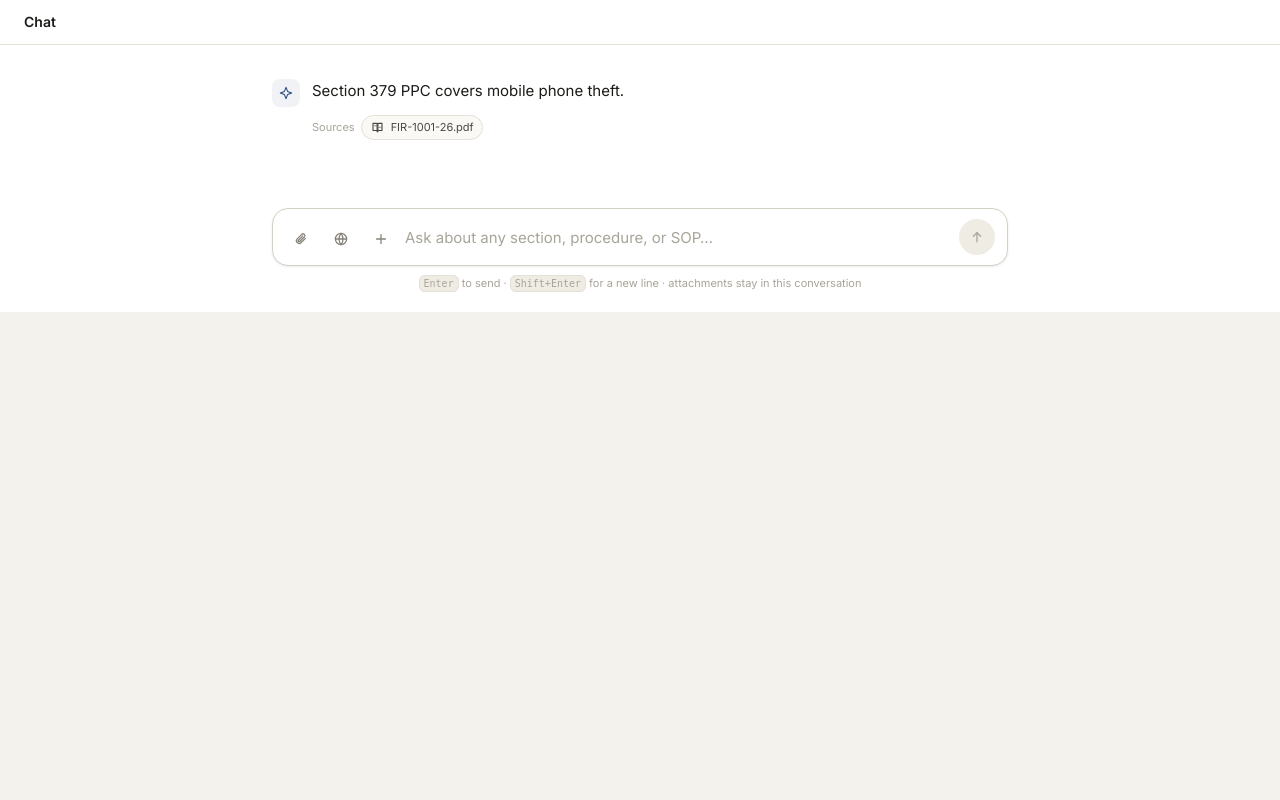
it: Chat layout — citation overlay, not a reserved column › closing the overlay (Escape) unmounts it and returns focus to the chip
Click the button titled "FIR-1001-26.pdf" at (422, 127), box [361, 115, 483, 140]
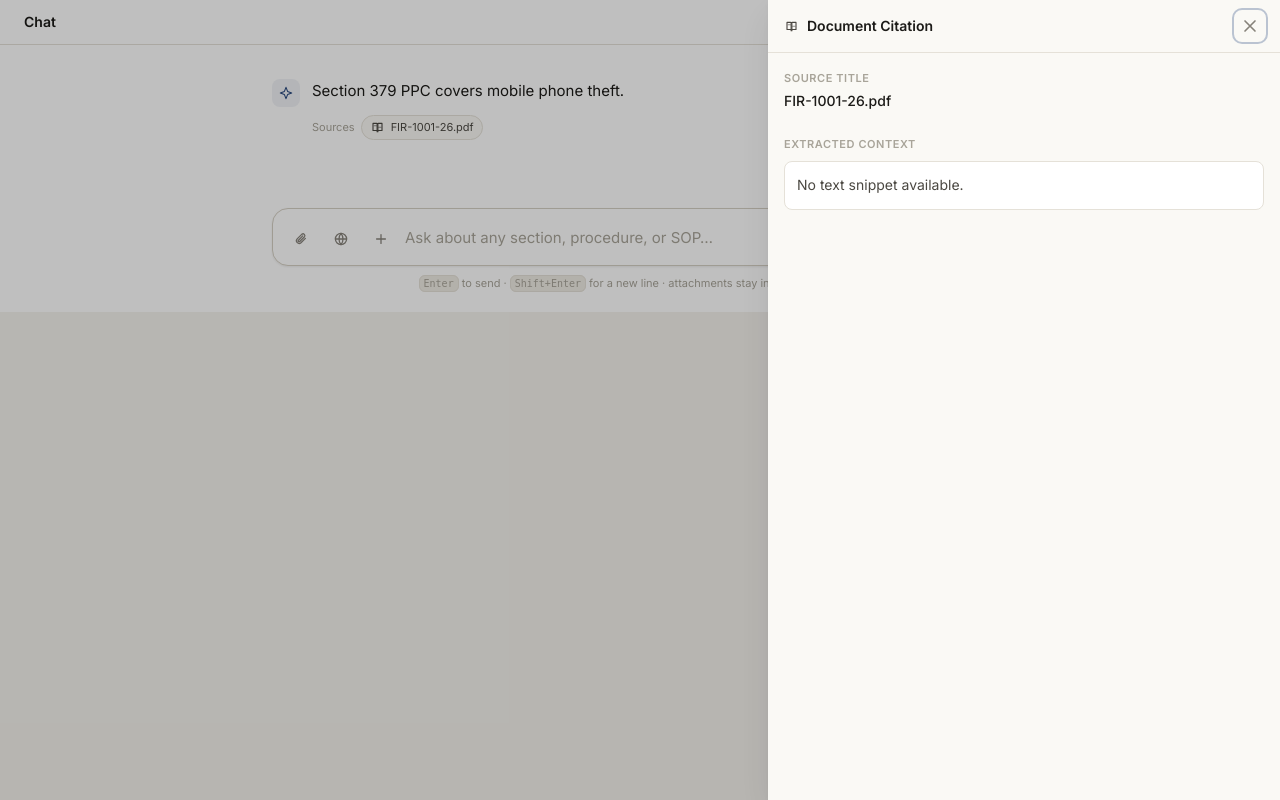
Expected: the dialog is shown, [768, 0, 1279, 799]
Press Escape
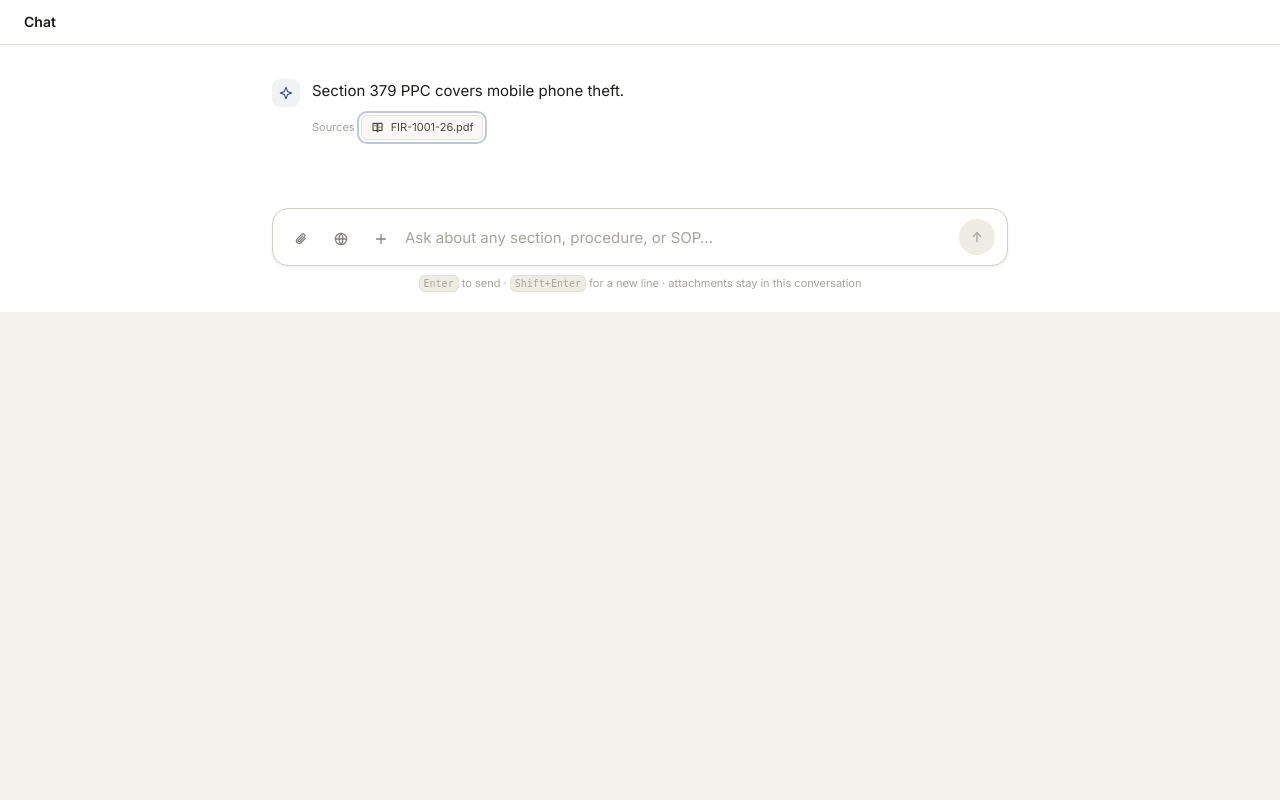
Expected: the dialog is gone
